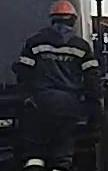helmet: (49, 0, 77, 19)
vest: (13, 26, 105, 110)
